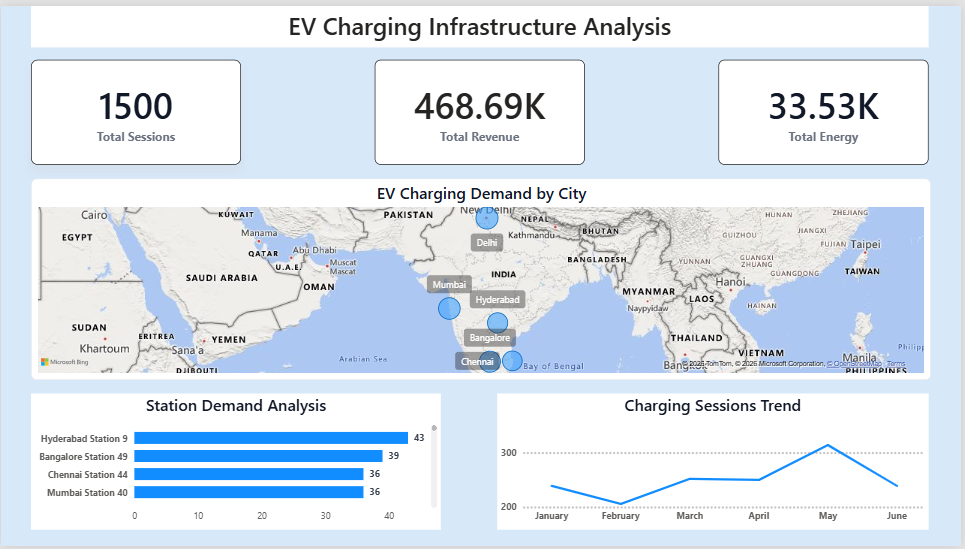

What the dashboard file says about the page in this screenshot:
{"tool":"powerbi","page":{"name":"Page 1","canvas":[1280,720],"ordinal":0},"visuals":[{"type":"card","fields":{"Values":["Charging_Sessions.Total Sessions"]},"box":[40,71.7,280,140],"z":0},{"type":"card","fields":{"Values":["Charging_Sessions.Total Revenue"]},"box":[498.3,71.7,280,140],"z":1000},{"type":"card","fields":{"Values":["Charging_Sessions.Total Energy"]},"box":[956.7,71.7,280,140],"z":2000},{"type":"map","title":"EV Charging Demand by City","fields":{"Category":["Charging_Sessions.City"],"Size":["CountNonNull(Charging_Sessions.Session_ID)"]},"box":[40,230,1200,268.6],"z":3000},{"type":"clusteredBarChart","title":"Station Demand Analysis","fields":{"Category":["Charging_Stations.Station_Name"],"Y":["CountNonNull(Charging_Sessions.Session_ID)"]},"box":[40,516.7,546.7,181.7],"z":4000},{"type":"lineChart","title":"Charging Sessions Trend","fields":{"Y":["CountNonNull(Charging_Sessions.Session_ID)"],"Category":["Charging_Sessions.Date.Variation.Date Hierarchy.Month"]},"box":[661.7,516.7,575,181.7],"z":5000},{"type":"textbox","box":[40,0,1196.7,55],"z":6000}]}

Visuals, with their boxes in screenshot pixels (x1, y1, x2, y2), scaled from the page's 1280x720 canvas onto the 965x549 screenshot:
card - Charging_Sessions.Total Sessions: left=30, top=55, right=241, bottom=161
card - Charging_Sessions.Total Revenue: left=376, top=55, right=587, bottom=161
card - Charging_Sessions.Total Energy: left=721, top=55, right=932, bottom=161
"EV Charging Demand by City" map: left=30, top=175, right=935, bottom=380
"Station Demand Analysis" clusteredBarChart: left=30, top=394, right=442, bottom=533
"Charging Sessions Trend" lineChart: left=499, top=394, right=932, bottom=533
textbox: left=30, top=0, right=932, bottom=42
